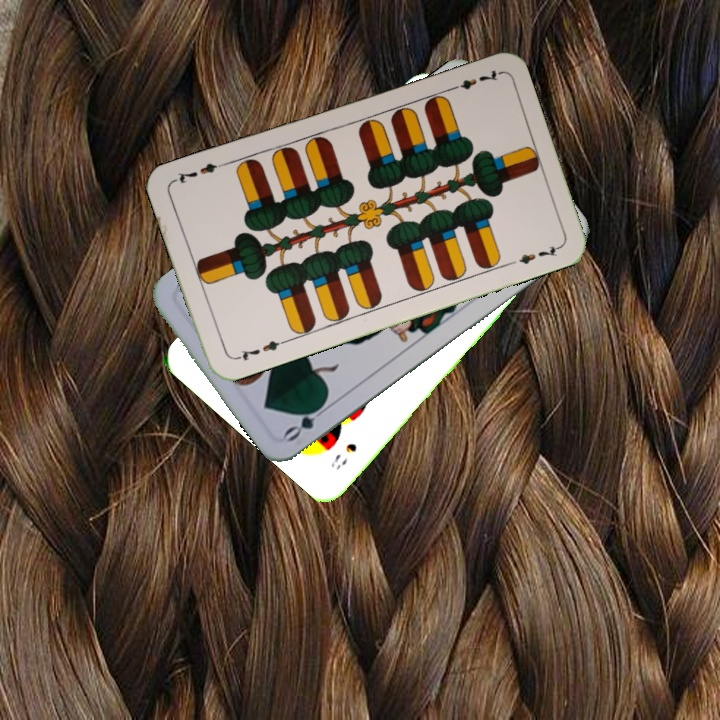E7: (444, 65, 502, 94), (230, 336, 288, 363)
GO: (280, 397, 332, 445)
S8: (326, 438, 360, 472)
